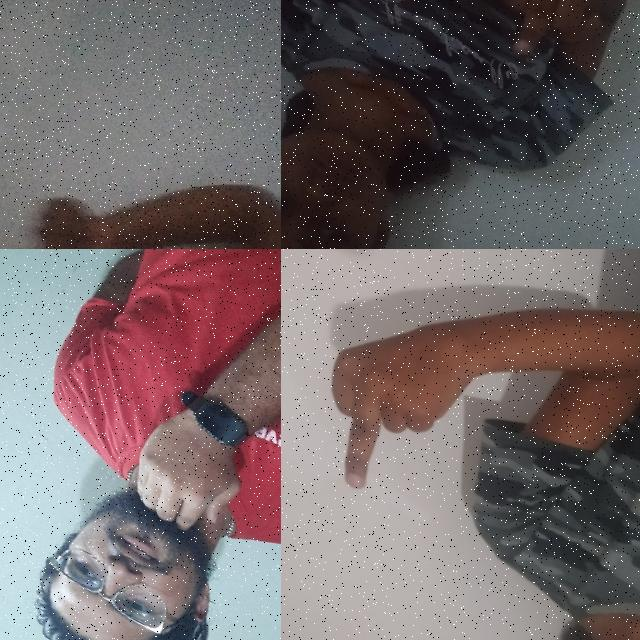Chin Flick: (17, 376, 280, 640)
Middle Finger: (281, 278, 520, 538), (455, 0, 630, 87)
Thumbs Up: (0, 169, 158, 249)
